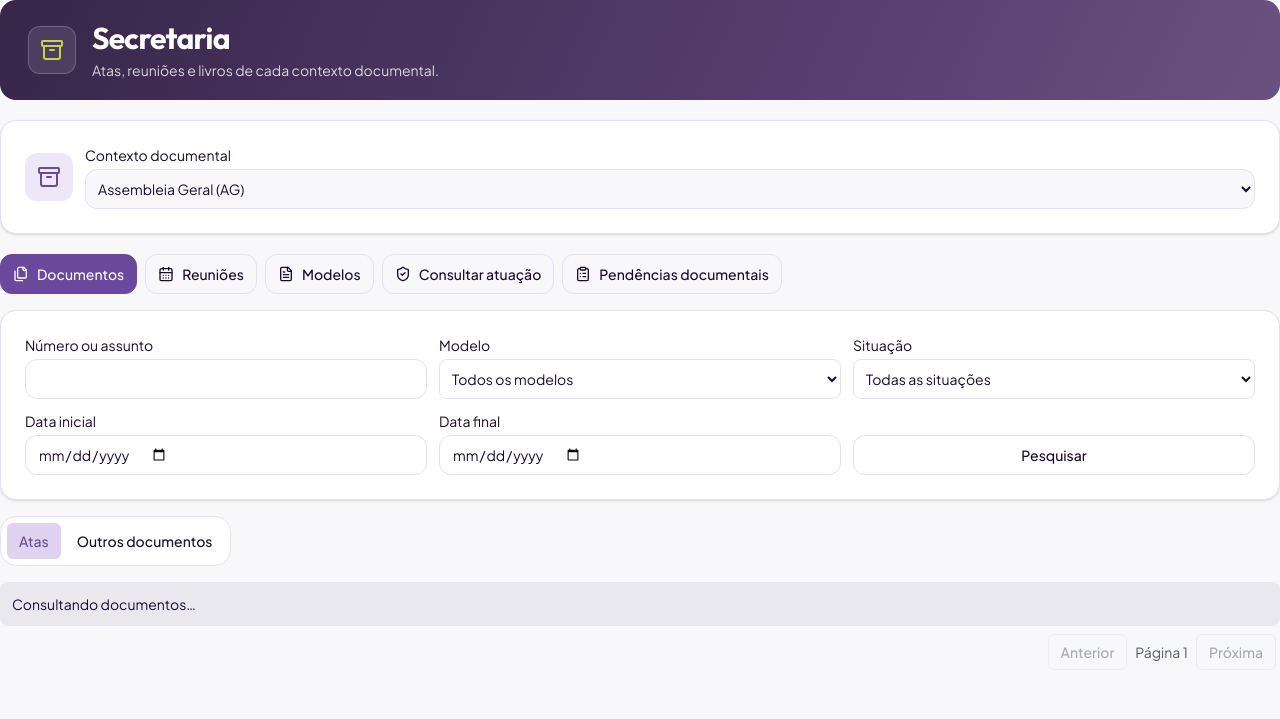
E04: interface da secretaria › consulta a reunião pela linha correspondente com permissão de leitura
Click the tab "Reuniões".
click(201, 274)  # box [145,254,257,294]
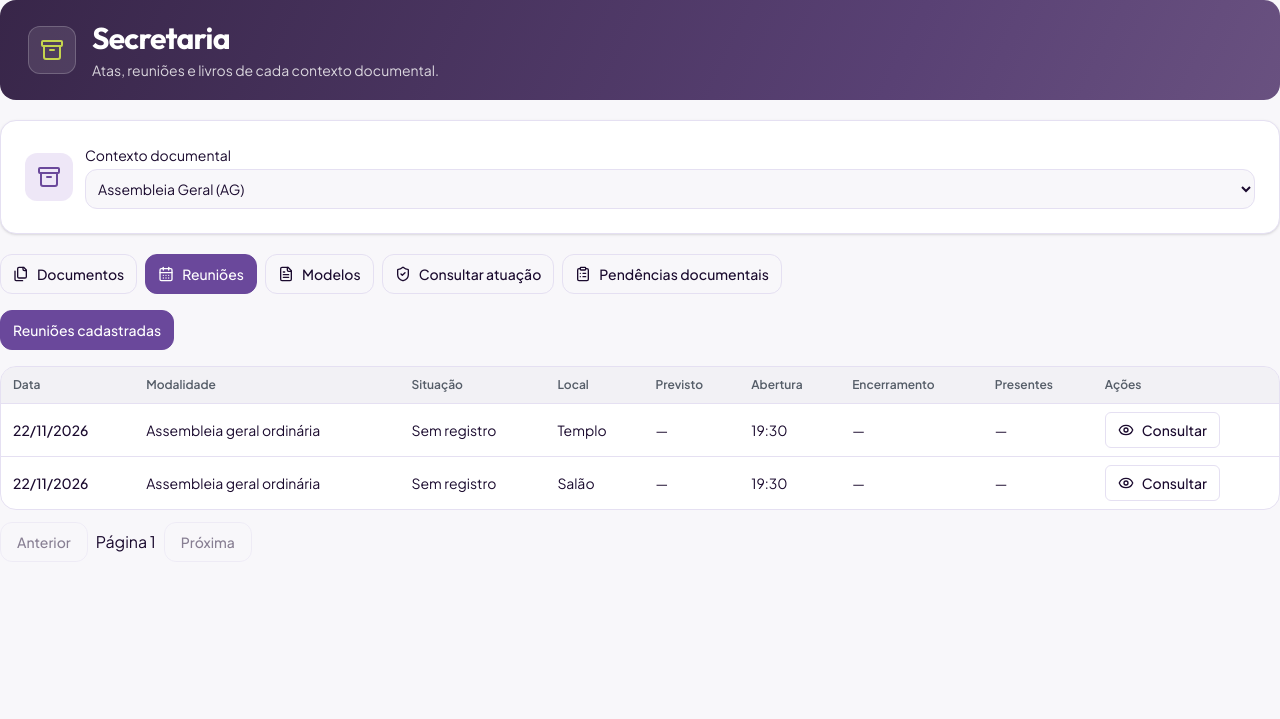
Now the text "22/11/2026" in the row of "Salão" is shown, box [13,474,88,492]
Now the text "19:30" next to "Salão" is shown, box [751,474,788,492]
Click the button "Consultar" in the row of "Salão".
click(1162, 483)  # box [1105,465,1220,501]
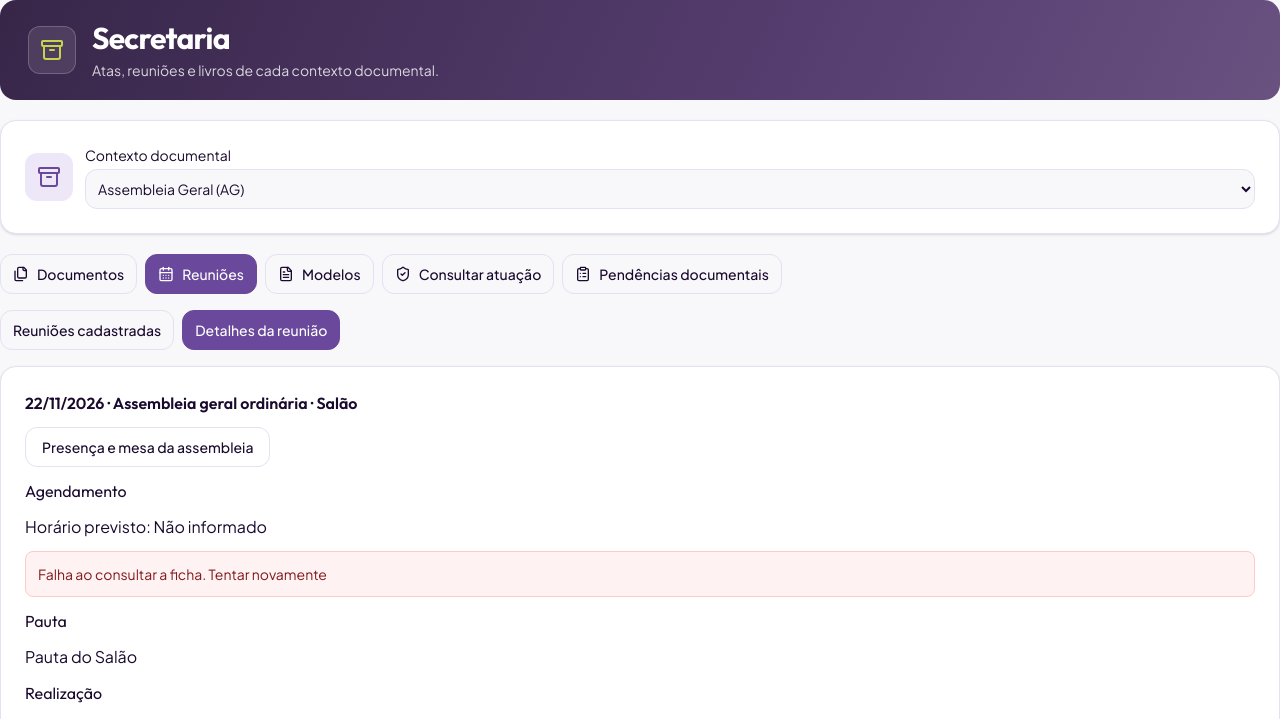
Now the text "Pauta do Salão" is shown, box [25,646,137,667]
